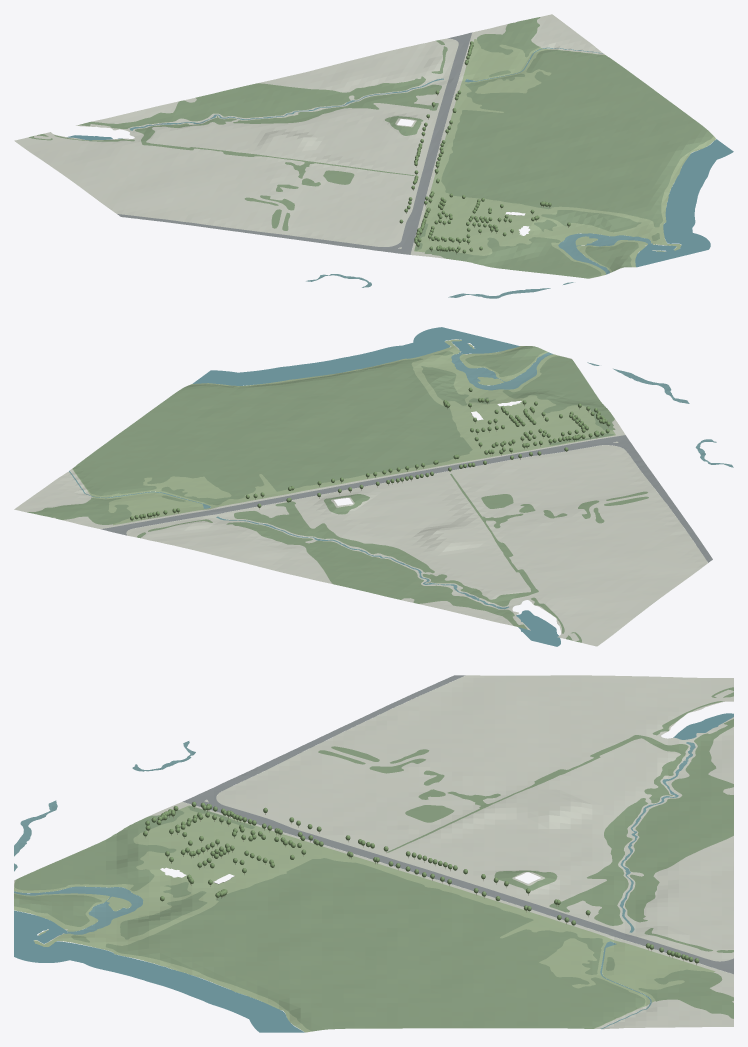
File: bell-harding-mapped-context.glb
The picture shows the model from 3 angles, top to bottom: view 1: azimuth 30°, elevation 25°; view 2: azimuth 150°, elevation 25°; view 3: azimuth 270°, elevation 25°; orthographic projection. The views are drawn at different scales.
Visible parts, largest first — view 1: WoodedArea, Terrain, Park, ShorelineWater, RoadPaved, RiverWater, InventoryTreeCrowns; view 2: Terrain, WoodedArea, Park, ShorelineWater, RoadPaved, InventoryTreeCrowns, RiverWater; view 3: WoodedArea, Terrain, Park, ShorelineWater, RoadPaved, InventoryTreeCrowns, RiverWater.
Part boxes in pixels (x1,y1,x2,y2): WoodedArea: (29, 17, 713, 278); Terrain: (14, 14, 681, 278); Park: (414, 39, 715, 276); ShorelineWater: (67, 135, 733, 267); RoadPaved: (117, 32, 472, 254); RiverWater: (129, 47, 652, 298); InventoryTreeCrowns: (399, 41, 570, 253); Terrain: (14, 340, 707, 646); WoodedArea: (27, 346, 648, 642); Park: (72, 339, 615, 525); ShorelineWater: (192, 327, 560, 646); RoadPaved: (101, 435, 712, 562); InventoryTreeCrowns: (130, 387, 610, 520); RiverWater: (69, 352, 733, 609); WoodedArea: (14, 687, 733, 1031); Terrain: (14, 675, 733, 1029); Park: (14, 805, 715, 1032); ShorelineWater: (14, 713, 733, 1032); RoadPaved: (182, 675, 733, 974); InventoryTreeCrowns: (143, 801, 699, 963); RiverWater: (14, 741, 695, 1028).
Size of the model in its own units: 750 by 16.29 by 666.
